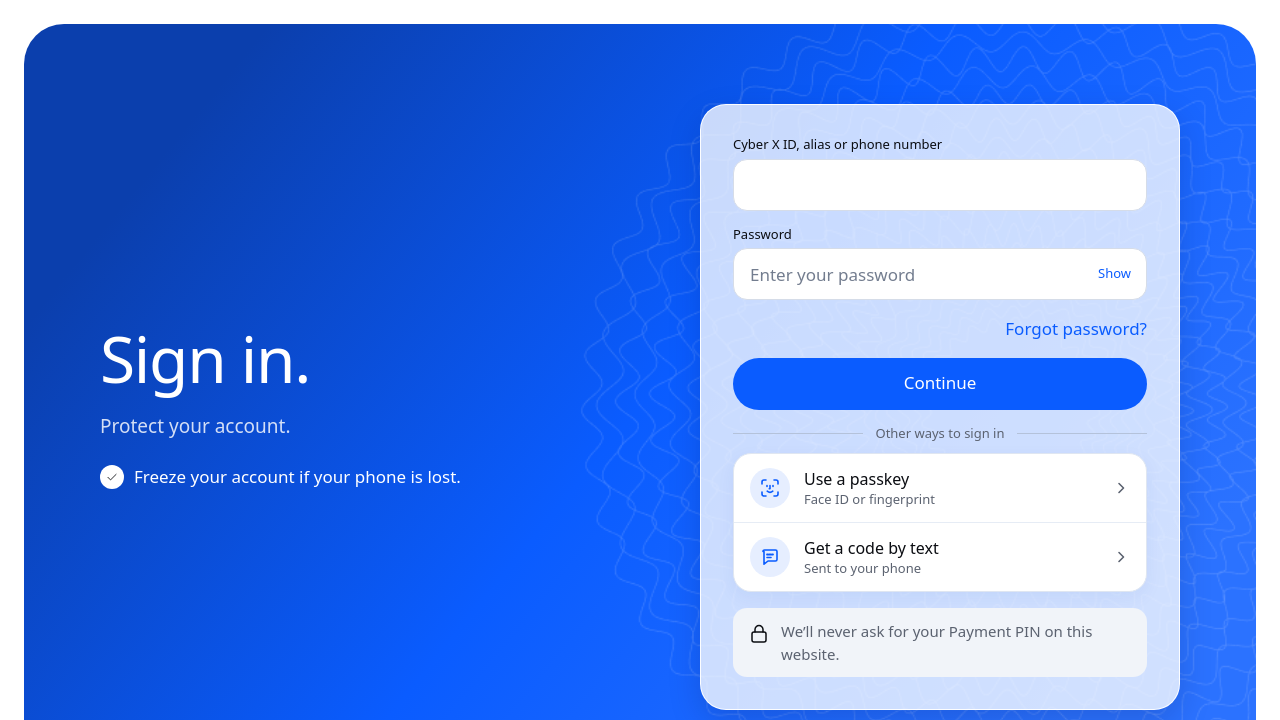
the sign-in card (W2.1) › asks for the code, then keeps the screen when the code is wrong
This screenshot has width=1280, height=720.
Type "@ayora" into the field labelled "Cyber X ID, alias or phone number" at (940, 185), box [733,159,1147,211]
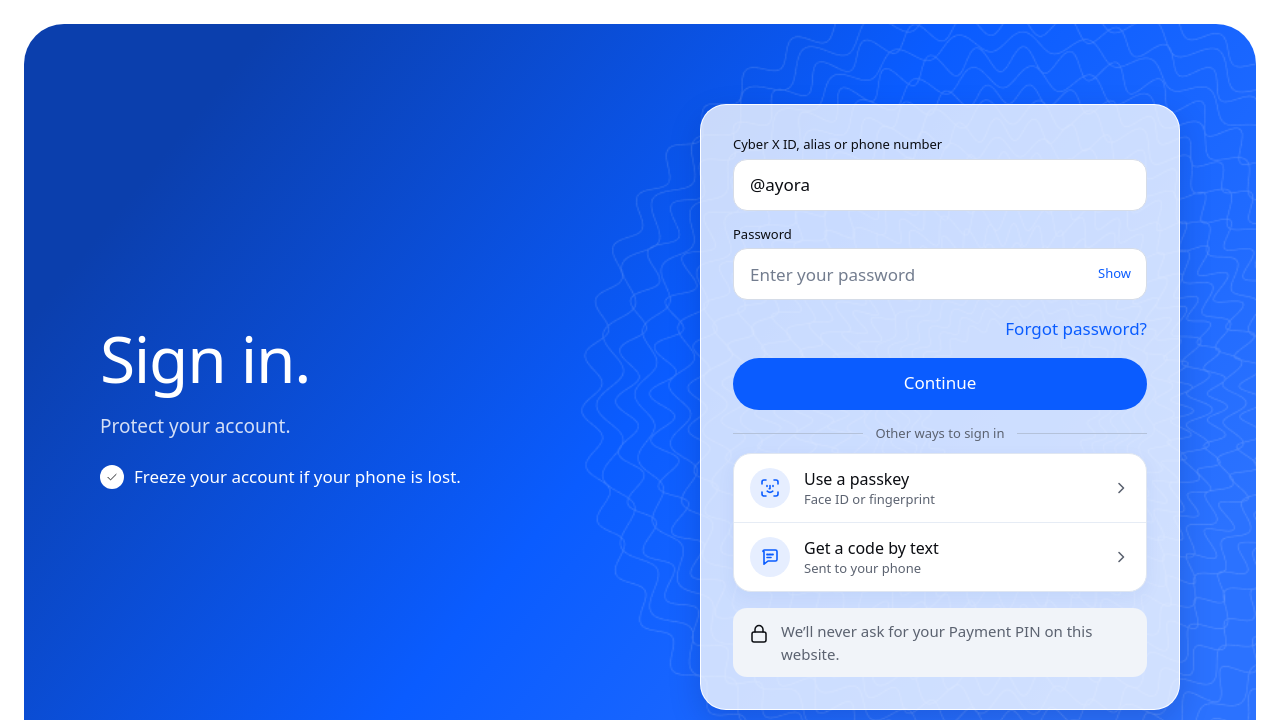
Type "right password" into the password field labelled "Password" at (940, 274), box [733,248,1147,300]
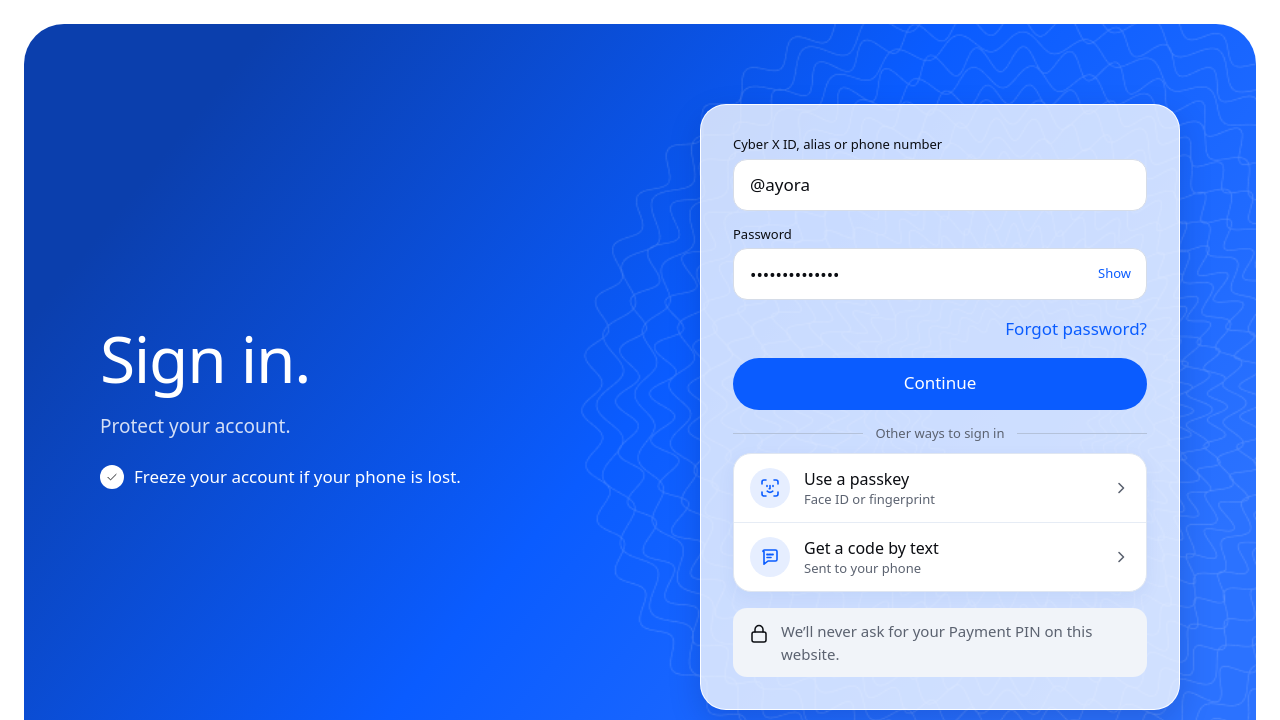
Click the button "Continue" at (940, 384), box [733,358,1147,410]
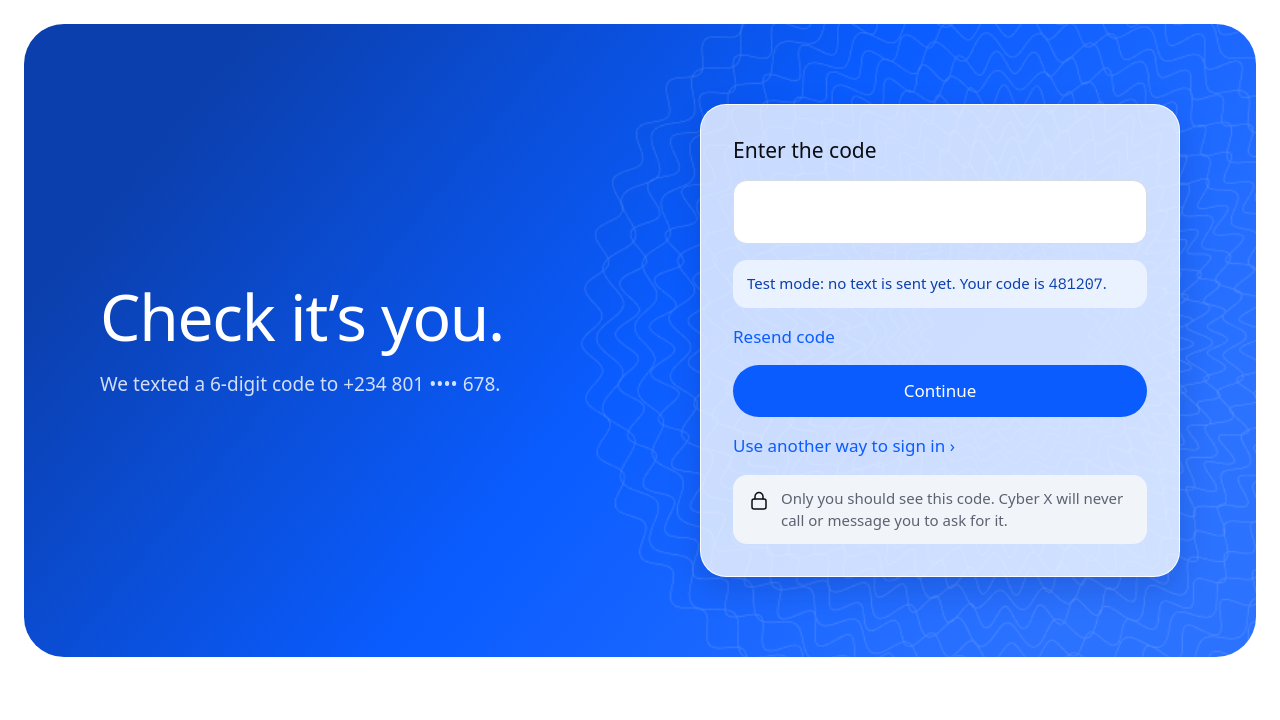
Expected: the heading "Check it’s you." is shown, [100,282,504,350]
Expected: the text "We texted a 6-digit code to +234 801 •••• 678." is shown, [100,370,500,398]
Expected: the text "481207" is shown, [1049,274,1103,293]
Type "48a1207" into the field labelled "Enter the code" at (940, 212), box [733,180,1147,244]
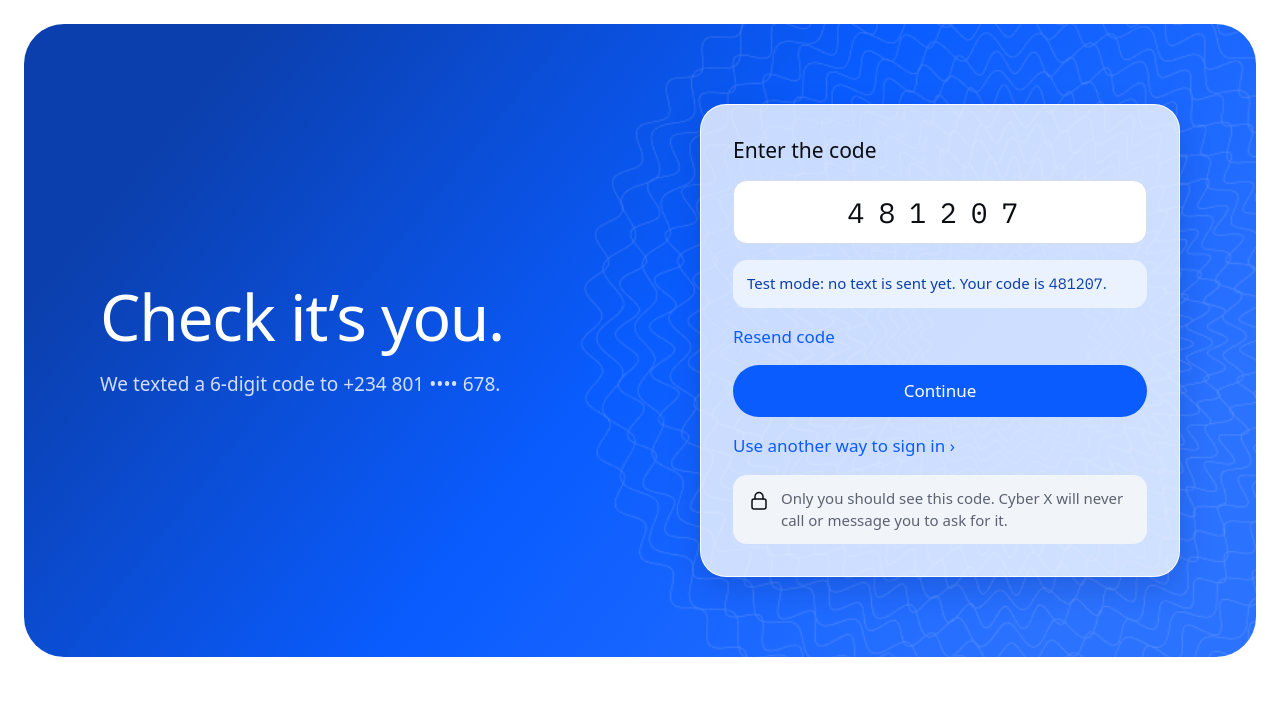
Expected: the field labelled "Enter the code" holds "481207", [733,180,1147,244]
Click the button "Continue" at (940, 391), box [733,365,1147,417]
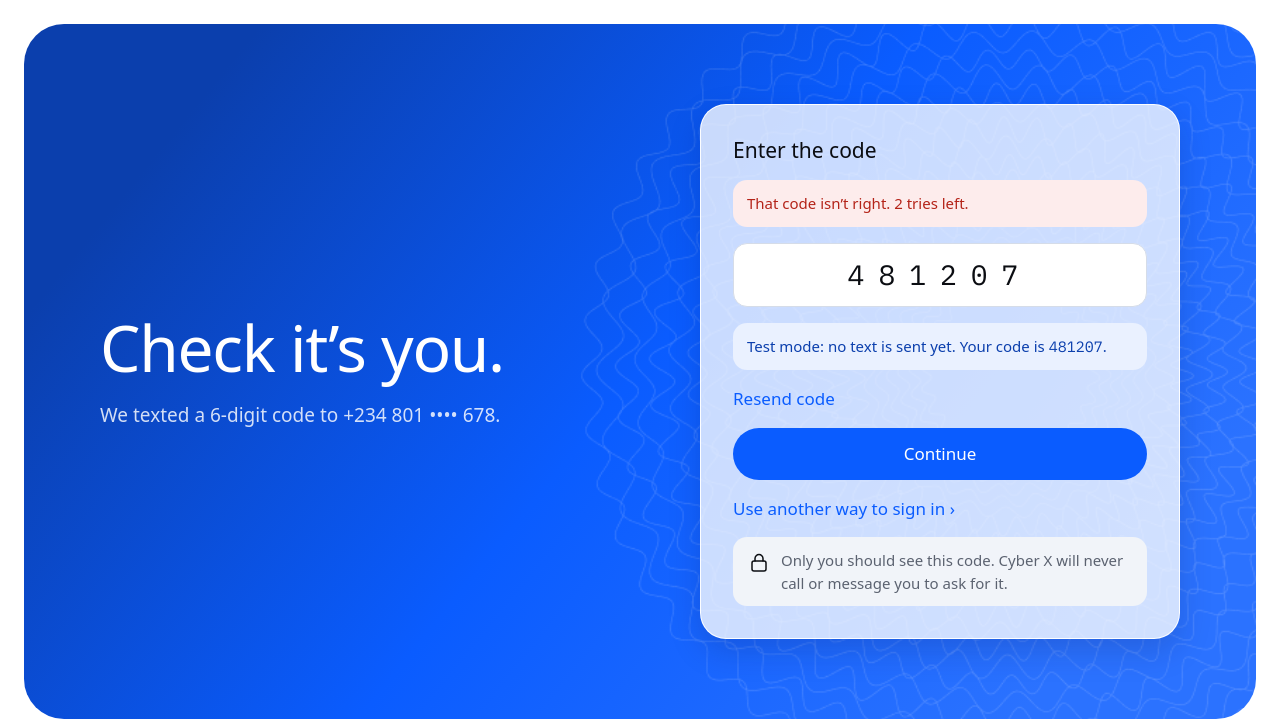
Expected: the text "We texted a 6-digit code to +234 801 •••• 678." is shown, [100,401,500,430]
Expected: the message shows "2 tries left", [747,193,969,213]
